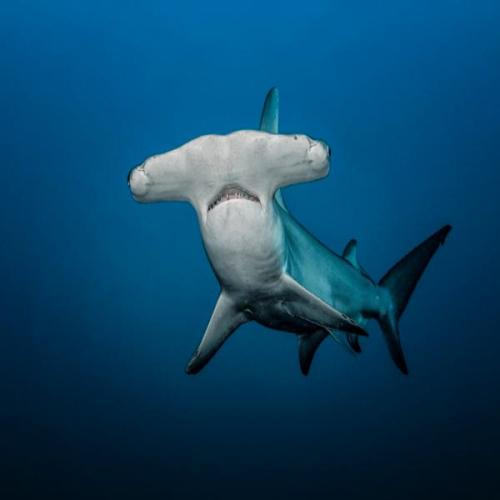shark-endangered: (128, 83, 453, 380)
